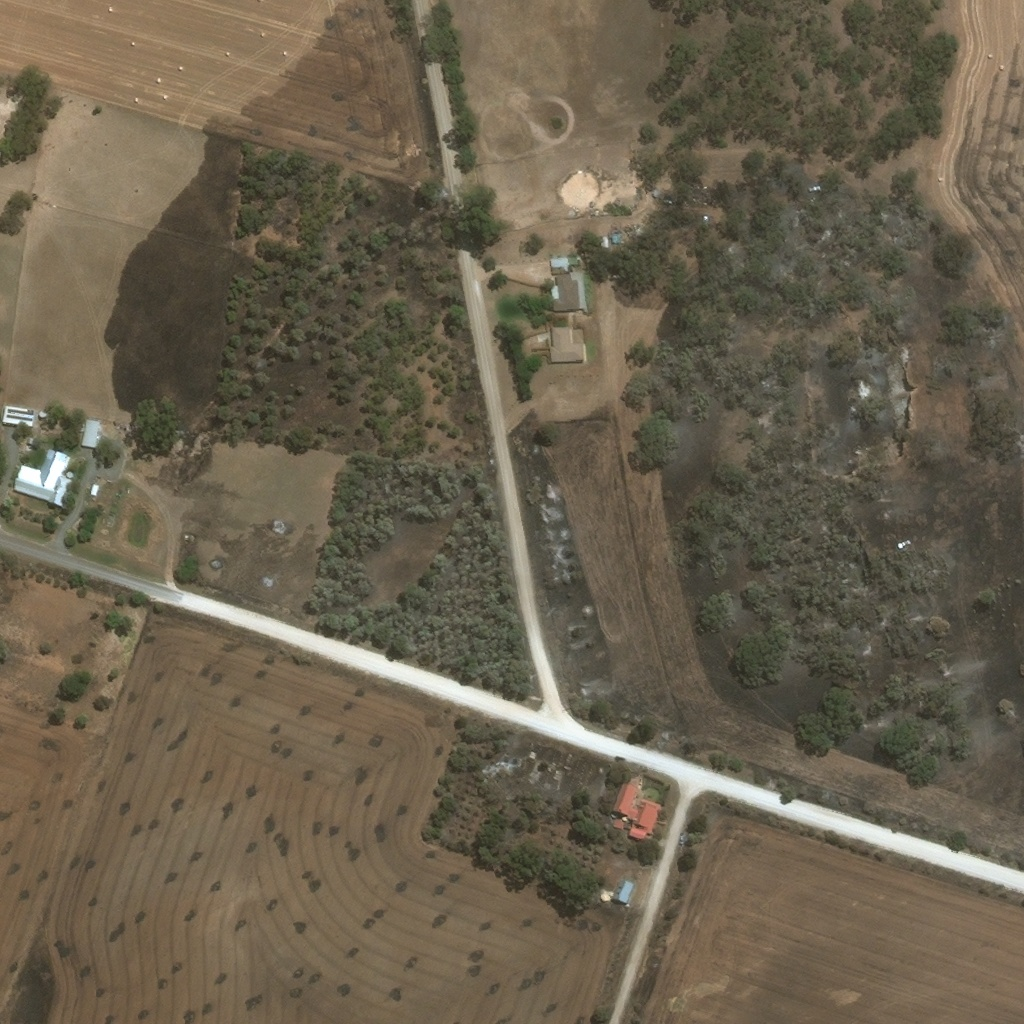0 no-damage: (609, 773, 661, 841), (12, 446, 73, 503), (552, 274, 584, 311), (548, 326, 581, 361), (1, 403, 36, 427), (81, 417, 102, 447), (610, 876, 633, 903), (548, 257, 583, 274), (89, 482, 98, 495), (597, 892, 606, 902)
